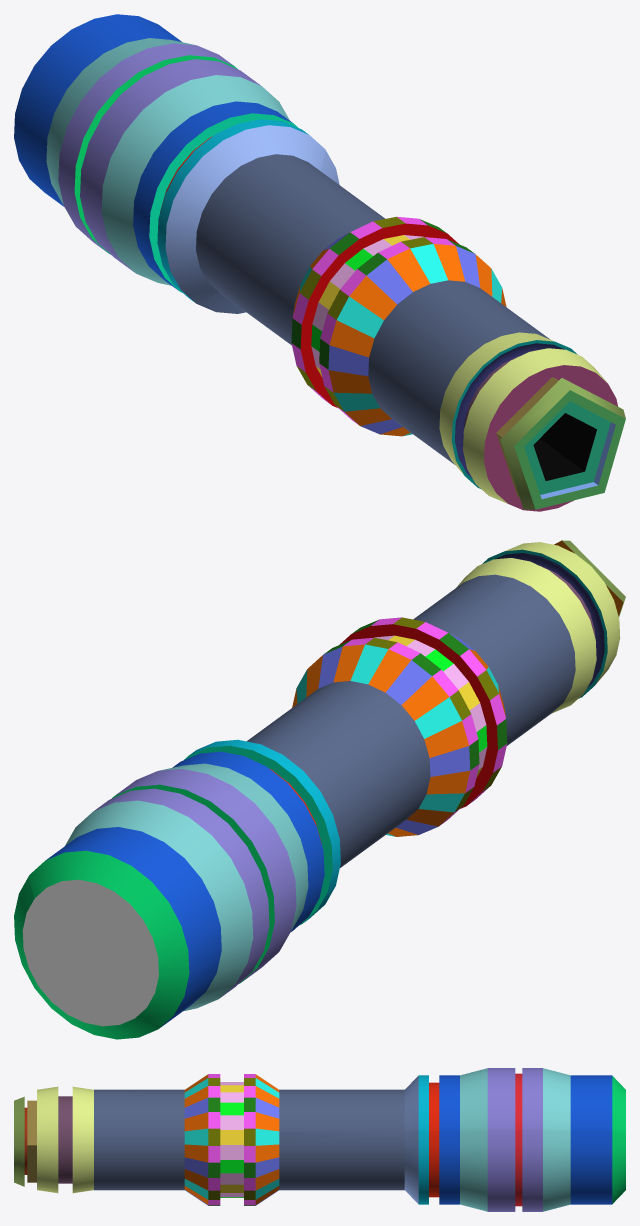
The model's file is CenterCannonIter2Colored.fbx.
The picture shows the model from 3 angles, top to bottom: view 1: azimuth 30°, elevation 25°; view 2: azimuth 150°, elevation 25°; view 3: azimuth 270°, elevation 25°; orthographic projection. The views are drawn at different scales.
Parts seen in each view (by area): view 1: Model; view 2: Model; view 3: Model.
Part boxes in pixels (x1,y1,x2,y2): Model: [14, 14, 625, 511]; Model: [14, 540, 625, 1039]; Model: [14, 1068, 625, 1211].
Bounding box in the file's own units: 126 × 126 × 535.
